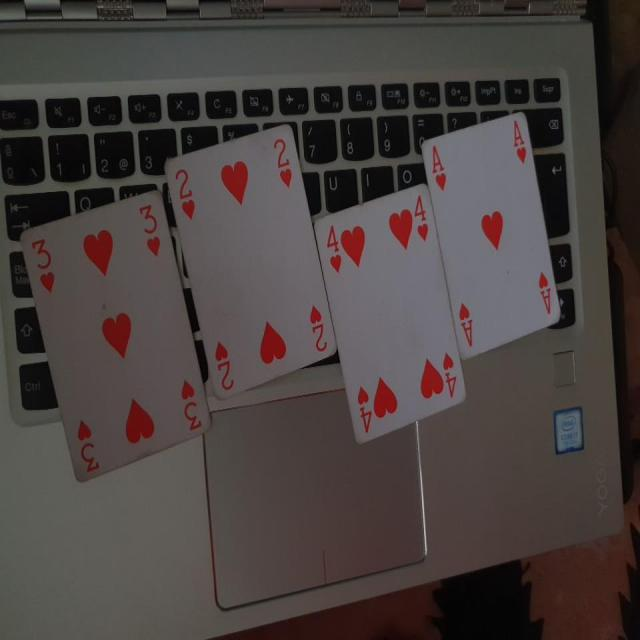2 Hearts: (160, 116, 340, 400)
3 Hearts: (19, 196, 216, 500)
4 Hearts: (315, 176, 473, 449)
A Hearts: (418, 104, 566, 362)
